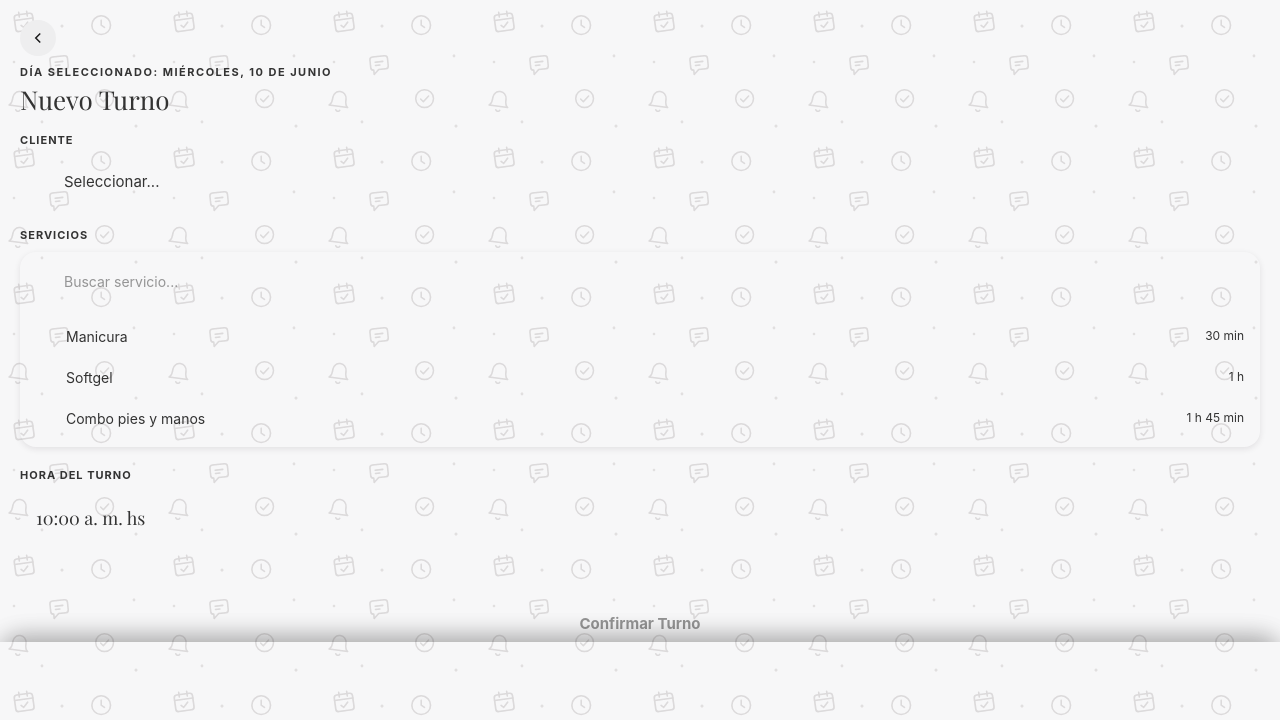
Test: NuevoTurnoPage — un solo turno (igual que siempre) › el botón "Agregar otro turno" no aparece hasta elegir cliente
The image size is (1280, 720).
Check: the button "Agregar otro turno" is not shown
Click the text "Seleccionar...": (112, 181) [64,172,160,191]
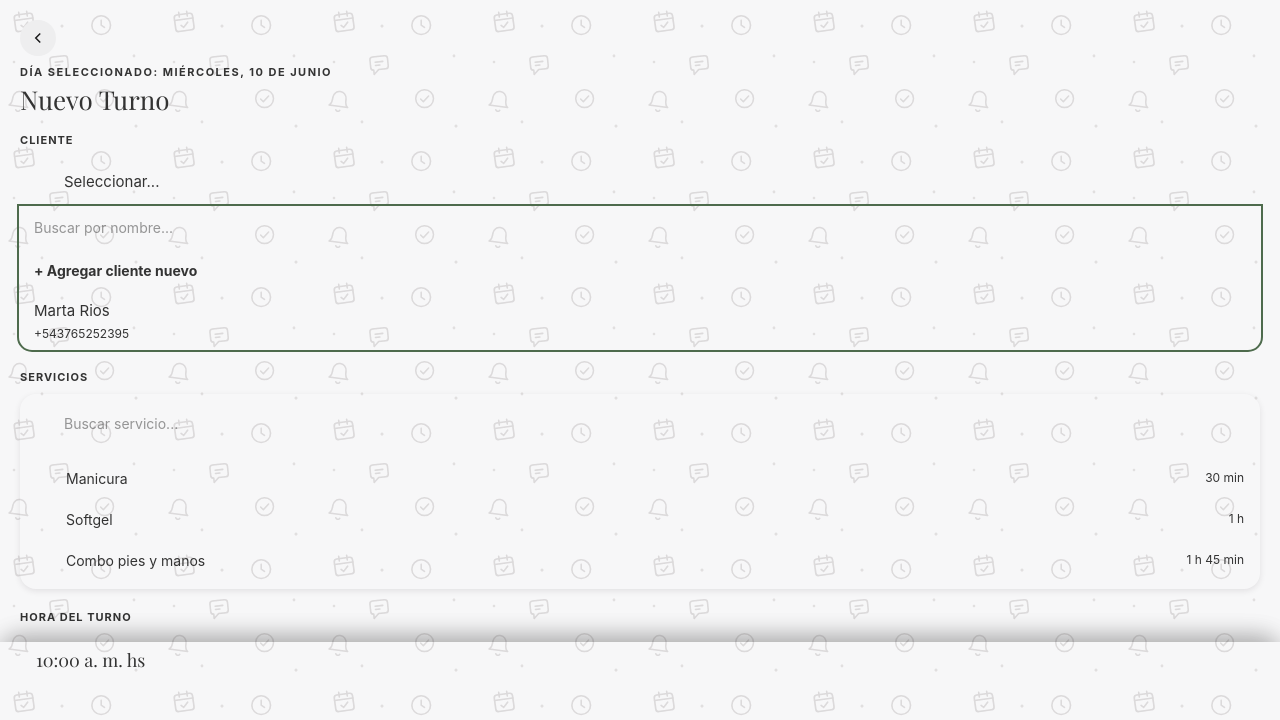
Click the text "Marta Rios": (72, 311) [34,301,110,320]
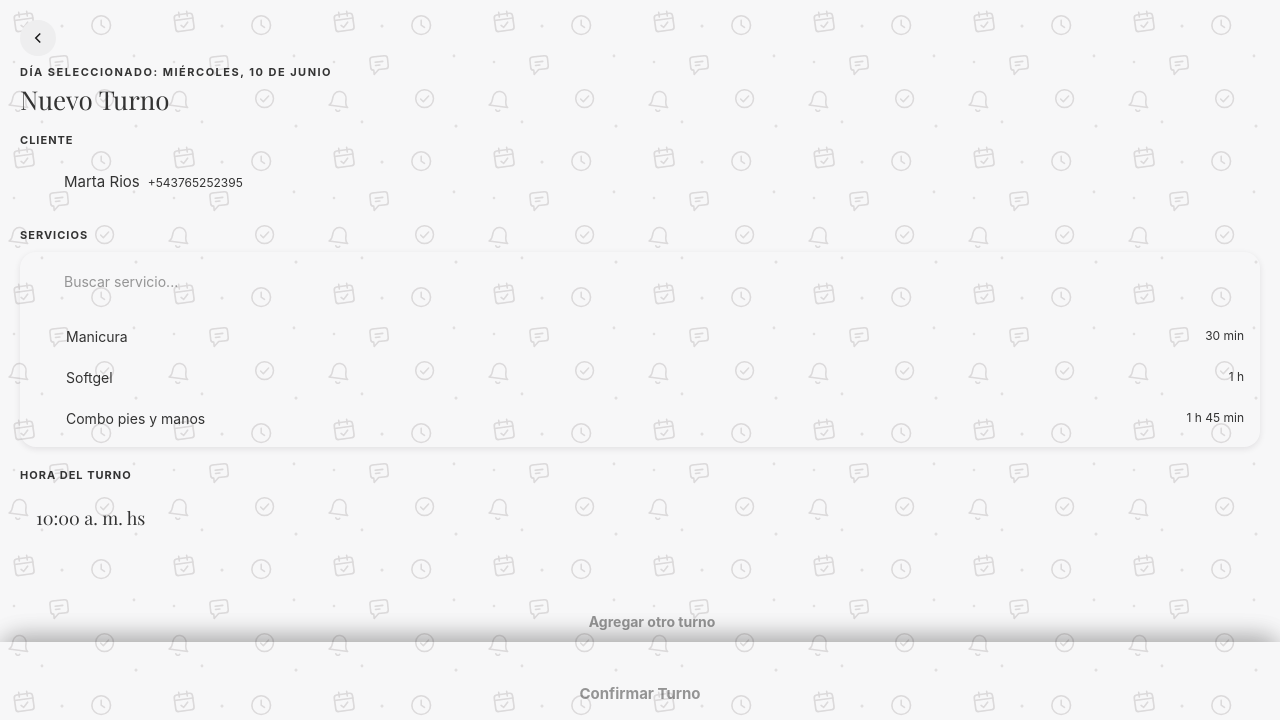
Check: the button "Agregar otro turno" is shown, box [20,598,1260,644]
